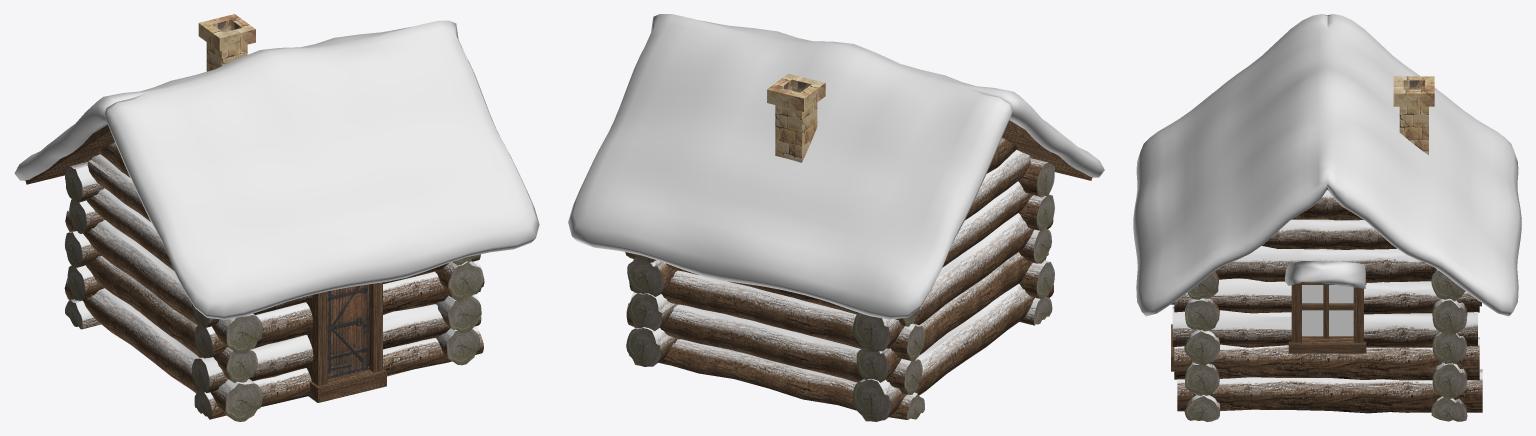
The model's file is snow_hut.glb.
3 renders of one model, left to right at view 1: azimuth 30°, elevation 25°; view 2: azimuth 150°, elevation 25°; view 3: azimuth 270°, elevation 25°, orthographic. The views are drawn at different scales.
Visible parts, largest first — view 1: body; view 2: body; view 3: body.
Part boxes in pixels (x1,y1,x2,y2): body: [14, 14, 539, 421]; body: [568, 14, 1104, 421]; body: [1133, 14, 1521, 421].
Size of the model in its own units: 6 by 4.65 by 5.84.
7 materials, 5 textured.
